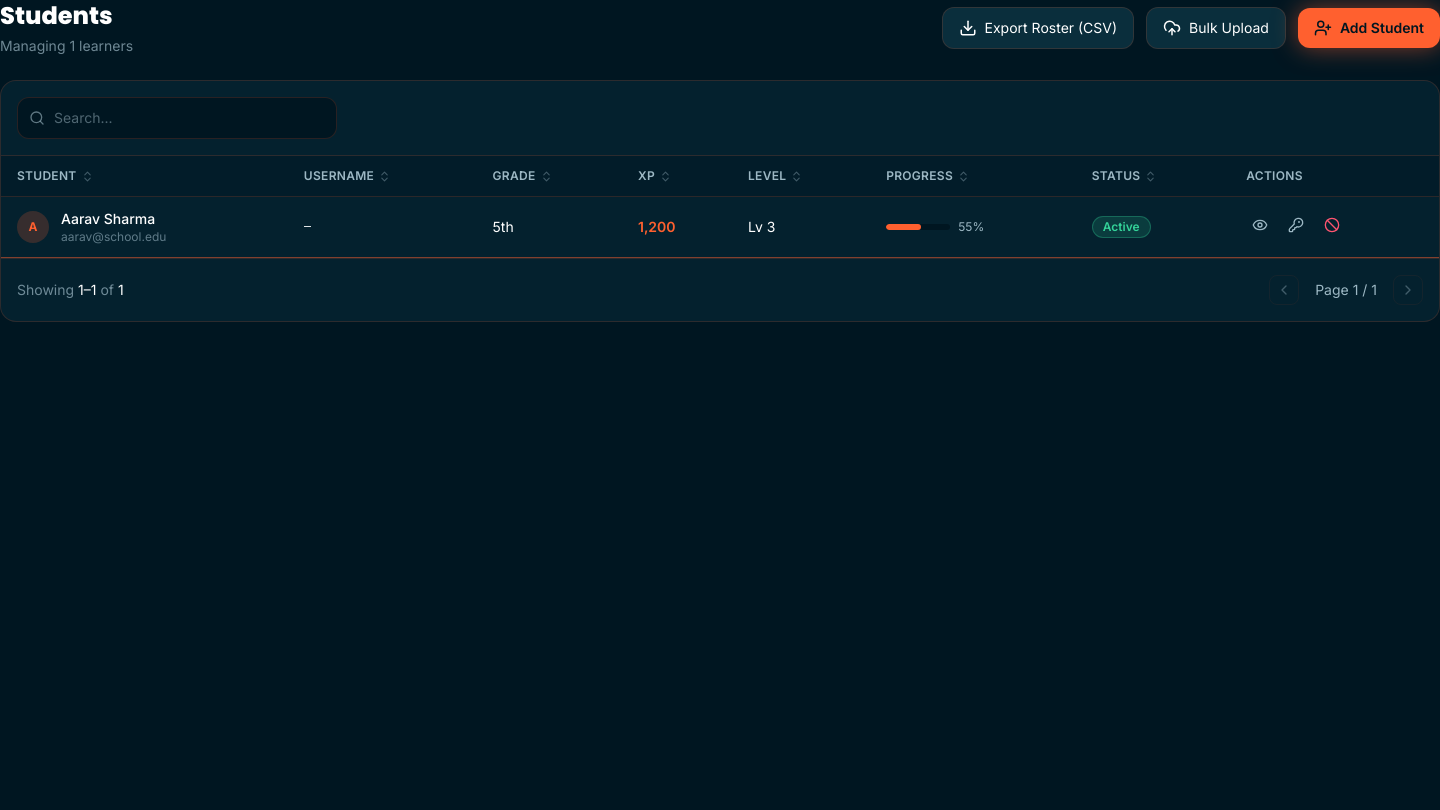
Students page › opens the Reset Password modal for a student
Check: the text "Aarav Sharma" is shown, box [61,209,166,229]
Click the button named "Reset password for".
click(1296, 227)  # box [1282,210,1310,244]
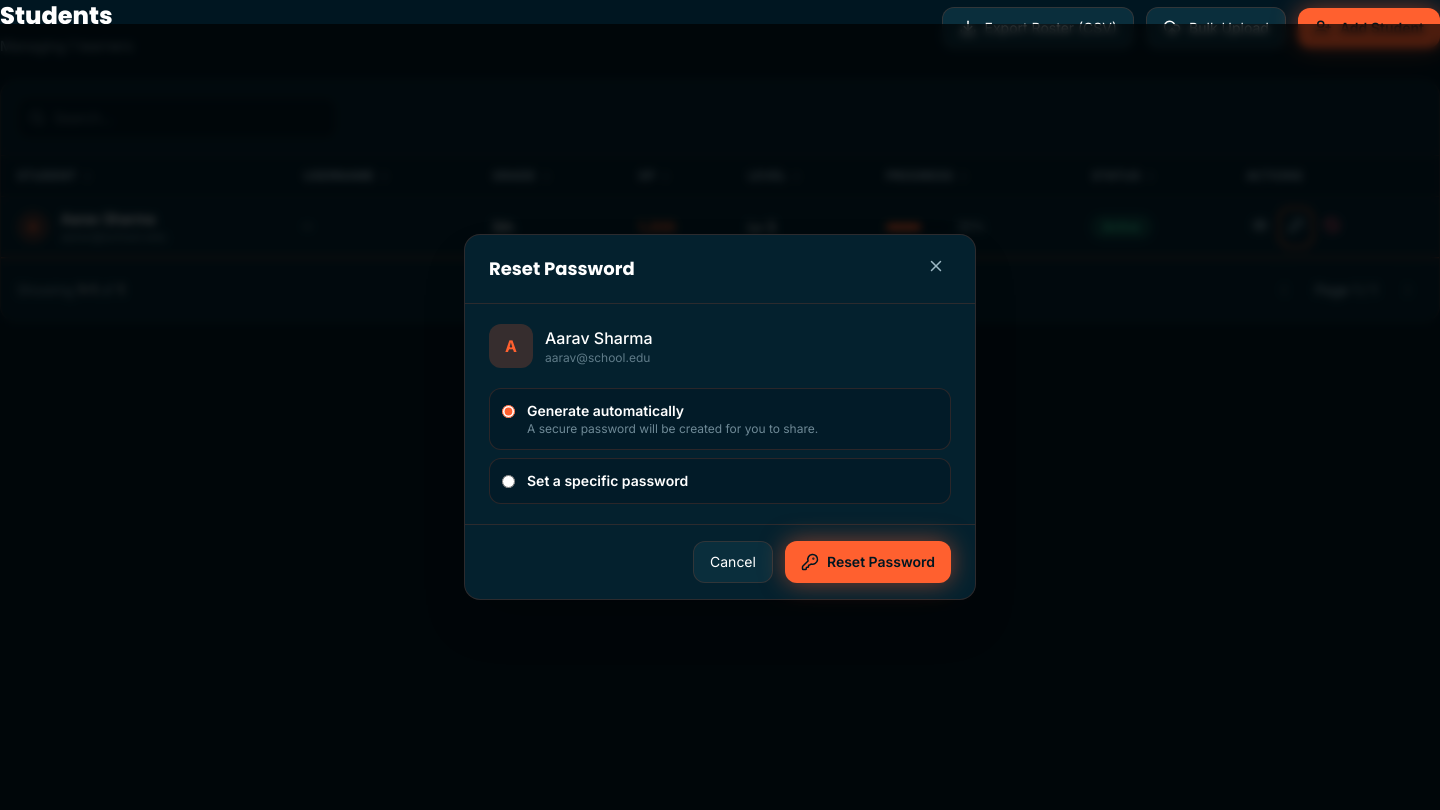
Check: the heading "Reset Password" is shown, box [489,255,635,283]
Check: the text "Generate automatically" is shown, box [527,402,684,419]
